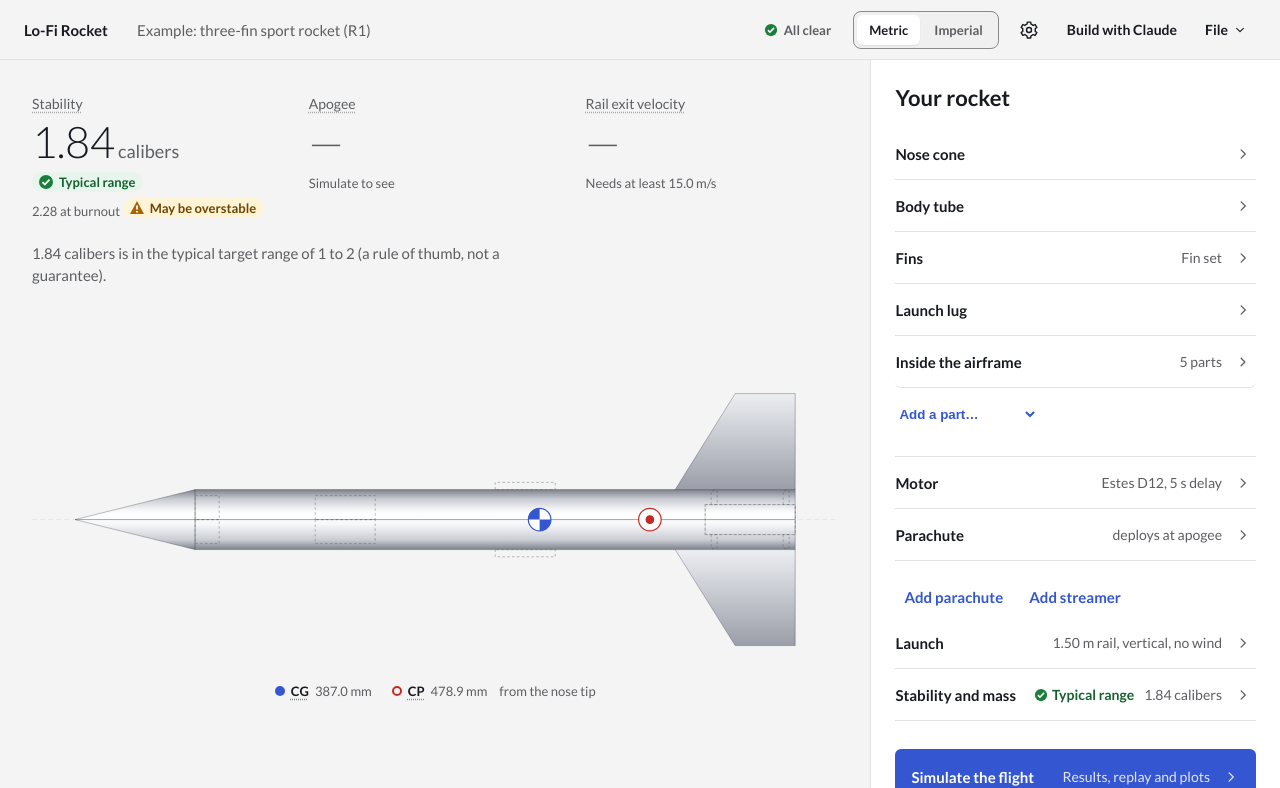
Test case: App (plan 0012) › the units toggle shows the chord in inches and restores it in millimetres
Click the option "Fins Fin set" at coordinates (1202, 257), box [895, 232, 1256, 284]
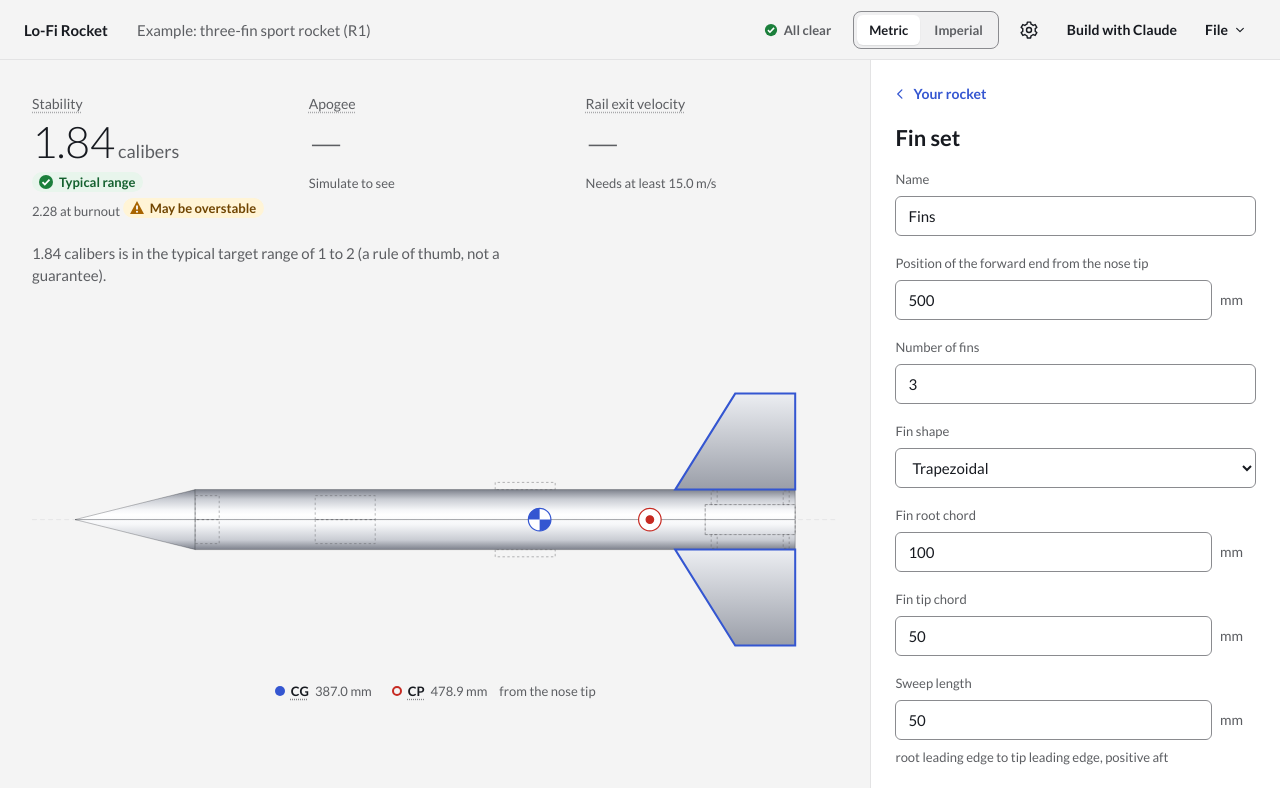
Click the radio button labelled "Imperial" at coordinates (959, 30), box [934, 22, 983, 38]
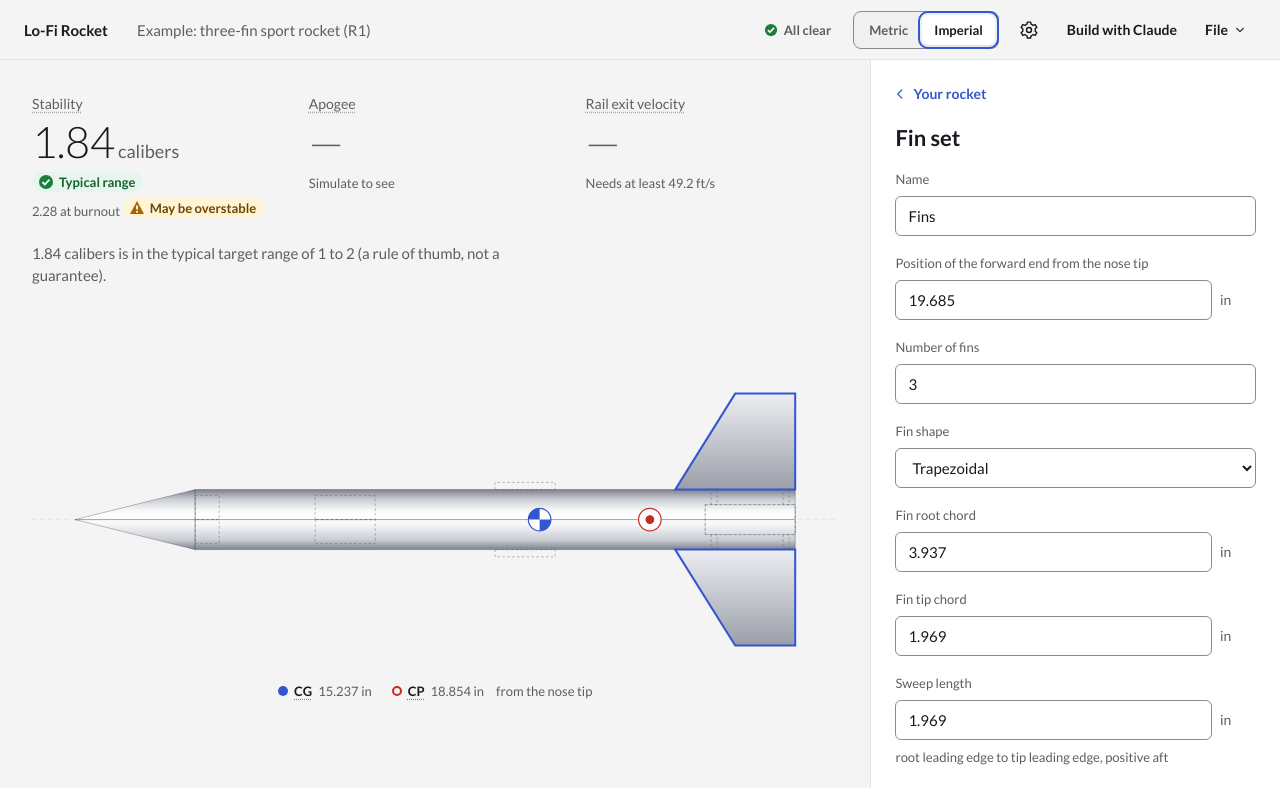
Expected: the field labelled "Fin root chord" holds "3.937", [895, 532, 1212, 572]
Click the radio button labelled "Metric" at coordinates (889, 30), box [869, 22, 908, 38]
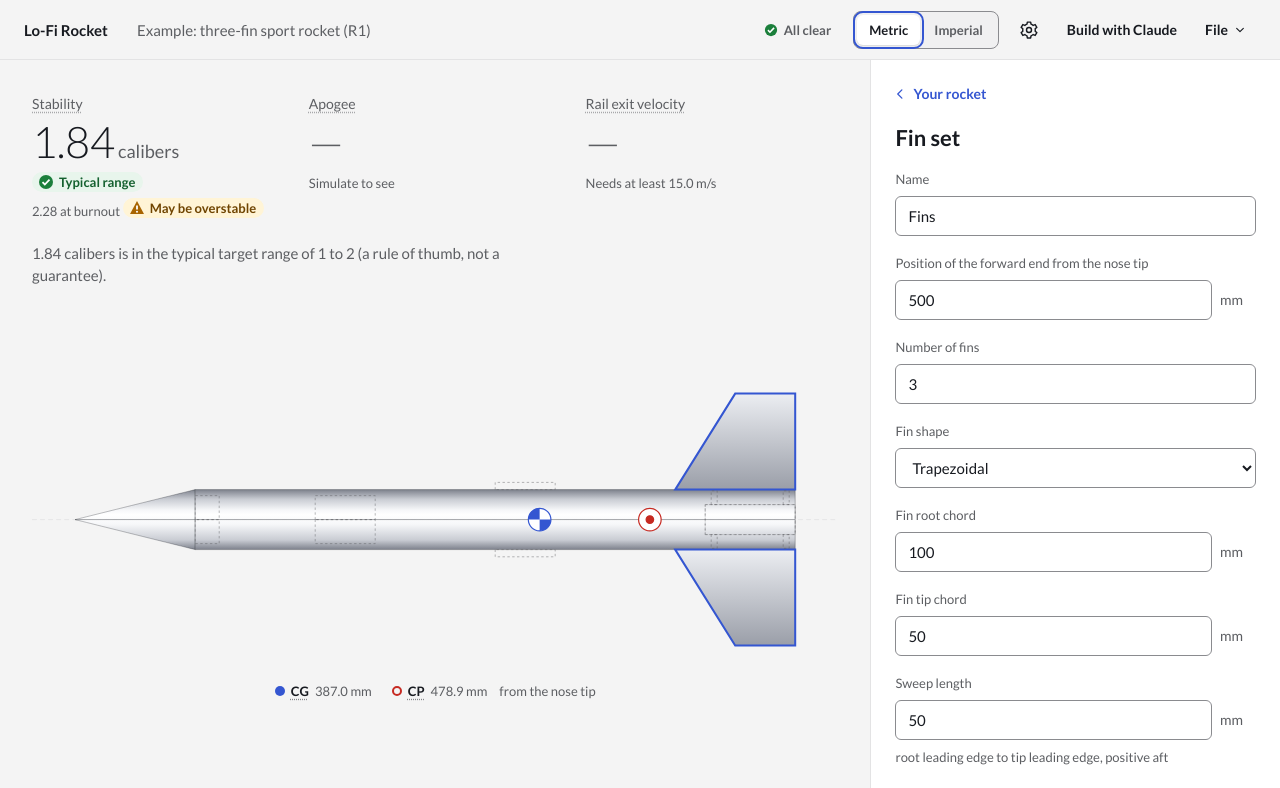
Expected: the field labelled "Fin root chord" holds "100", [895, 532, 1212, 572]
